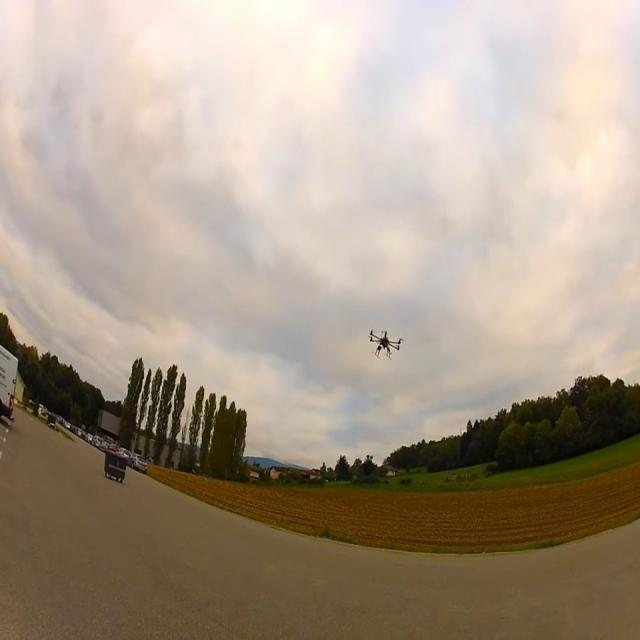drone: (368, 328, 403, 359)
